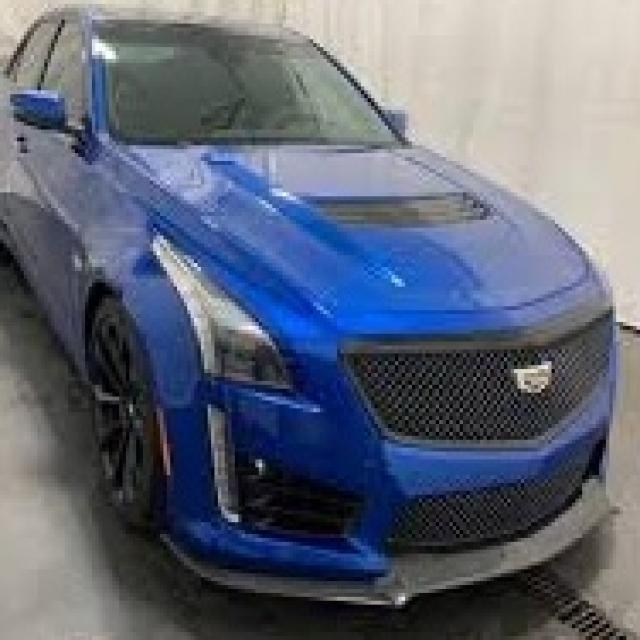blue: (0, 4, 616, 601)
